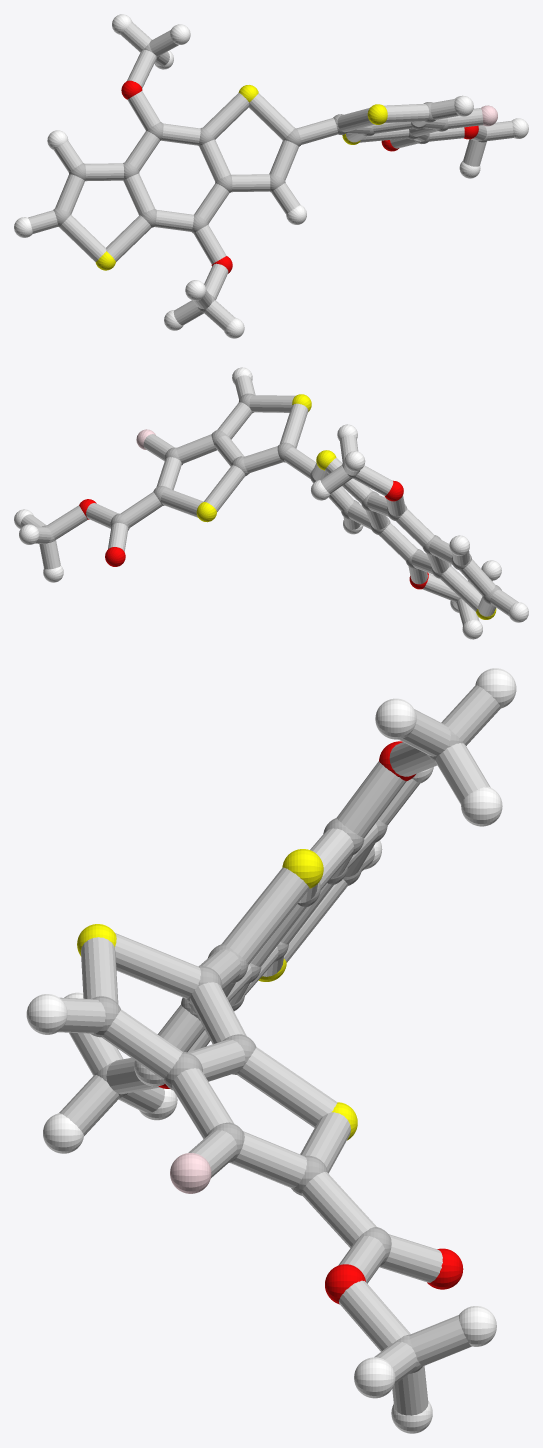
File: Dimethoxy_Benzodithiophene_Phi_10_Theta_270_Methylcarbonyl_3_Fluoro_Thienothiophene.glb
3 renders of one model, top to bottom at view 1: azimuth 30°, elevation 25°; view 2: azimuth 150°, elevation 25°; view 3: azimuth 270°, elevation 25°, orthographic. The views are drawn at different scales.
Parts seen in each view (by area): view 1: grp15205, grp8689, grp1, grp7241, grp13395; view 2: grp15205, grp8689, grp1, grp7241, grp13395; view 3: grp15205, grp8689, grp1, grp7241, grp13395, grp14843.
Part boxes in pixels (x1,y1,x2,y2): grp15205: (28, 22, 513, 330); grp8689: (14, 14, 528, 338); grp1: (53, 43, 486, 312); grp7241: (95, 85, 387, 270); grp13395: (121, 80, 478, 273); grp15205: (20, 375, 517, 625); grp8689: (14, 367, 528, 639); grp1: (42, 393, 501, 604); grp7241: (196, 394, 496, 619); grp13395: (79, 480, 428, 589); grp15205: (58, 685, 500, 1415); grp8689: (26, 668, 516, 1433); grp1: (90, 729, 463, 1373); grp7241: (77, 849, 357, 1140); grp13395: (158, 741, 463, 1304); grp14843: (170, 1153, 211, 1193).
Size of the model in its own units: 17.01 by 7.7 by 7.09.
